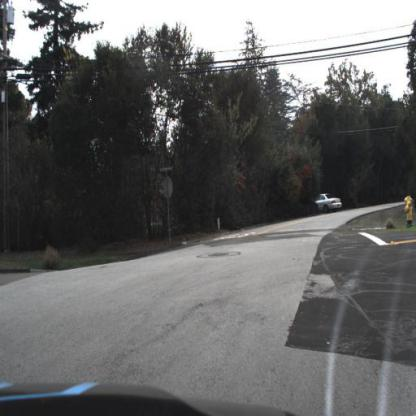car: (311, 182, 345, 215), (317, 194, 345, 213)
